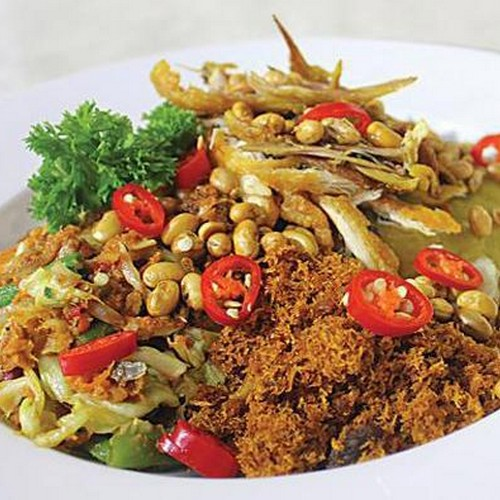tipat blayag: (18, 39, 482, 462)
